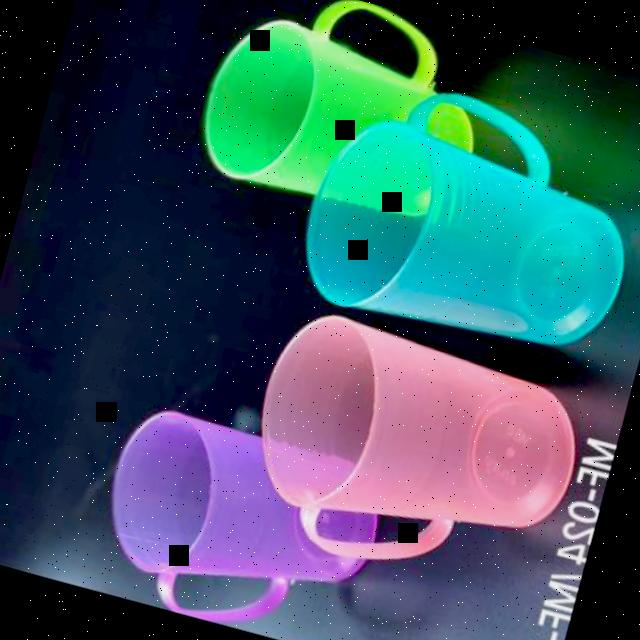plastic_cup: (230, 304, 594, 610), (290, 64, 640, 368), (89, 397, 397, 640), (192, 0, 504, 236)
